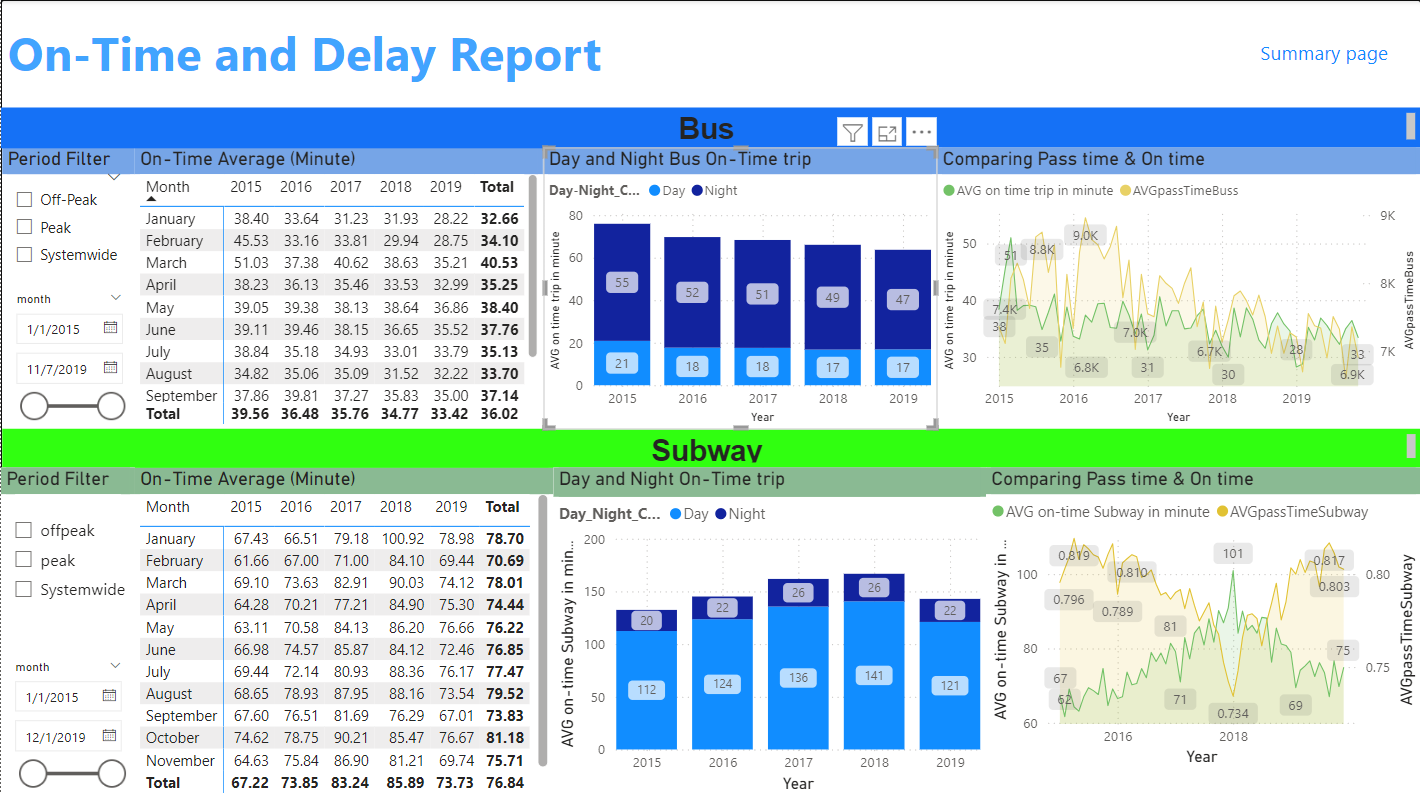

What the dashboard file says about the page in this screenshot:
{"tool":"powerbi","page":{"name":"On time & Delay","canvas":[1280,720],"ordinal":1},"visuals":[{"type":"slicer","title":"Period Filter","fields":{"Values":["MTA_Bus_Wait_Assessment__2015-2019 (2).period"]},"box":[1.2,133.3,119.8,126],"z":0},{"type":"slicer","fields":{"Values":["MTA_Bus_Wait_Assessment__2015-2019 (2).month"]},"box":[1.2,258,119.8,128.4],"z":1000},{"type":"pivotTable","title":"On-Time Average (Minute)","fields":{"Rows":["MTA_Bus_Wait_Assessment__2015-2019 (2).month.Variation.Date Hierarchy.Month"],"Columns":["MTA_Bus_Wait_Assessment__2015-2019 (2).month.Variation.Date Hierarchy.Year"],"Values":["MTA_Bus_Wait_Assessment__2015-2019 (2).AVG on time trip"]},"box":[121.1,133.3,368.1,254.3],"z":2000},{"type":"textbox","box":[0,96.6,1280.3,36.7],"z":3000},{"type":"lineChart","title":"Comparing Pass time & On time","fields":{"Y":["MTA_Bus_Wait_Assessment__2015-2019 (2).on time trip"],"Category":["MTA_Bus_Wait_Assessment__2015-2019 (2).month.Variation.Date Hierarchy.Year","MTA_Bus_Wait_Assessment__2015-2019 (2).month.Variation.Date Hierarchy.Month"],"Y2":["MTA_Bus_Wait_Assessment__2015-2019 (2).AVG pass time"]},"box":[843.8,133.3,436.6,254.3],"z":4000},{"type":"lineStackedColumnComboChart","title":"Day and Night Bus On-Time trip","fields":{"Category":["MTA_Bus_Wait_Assessment__2015-2019 (2).month.Variation.Date Hierarchy.Year"],"Y":["MTA_Bus_Wait_Assessment__2015-2019 (2).on time trip"],"Series":["MTA_Bus_Wait_Assessment__2015-2019 (2).Day-Night_"]},"box":[489.1,133.3,354.6,254.3],"z":5000},{"type":"pivotTable","title":"On-Time Average (Minute)","fields":{"Rows":["MTA_Subway_Wait_Assessment__2015-2019.month.Variation.Date Hierarchy.Month"],"Columns":["MTA_Subway_Wait_Assessment__2015-2019.month.Variation.Date Hierarchy.Year"],"Values":["MTA_Subway_Wait_Assessment__2015-2019.Average on-time Subway in minute"]},"box":[134.5,421.9,363.2,298.4],"z":6000},{"type":"textbox","box":[1.2,386.4,1279.1,35.5],"z":7000},{"type":"lineStackedColumnComboChart","title":"Day and Night On-Time trip","fields":{"Category":["MTA_Subway_Wait_Assessment__2015-2019.month.Variation.Date Hierarchy.Year"],"Y":["MTA_Subway_Wait_Assessment__2015-2019.Average on-time Subway in minute"],"Series":["MTA_Subway_Wait_Assessment__2015-2019.Day_Night_Caption"]},"box":[497.7,421.9,390.1,298.4],"z":8000},{"type":"lineChart","title":"Comparing Pass time & On time","fields":{"Category":["MTA_Subway_Wait_Assessment__2015-2019.month.Variation.Date Hierarchy.Year","MTA_Subway_Wait_Assessment__2015-2019.month.Variation.Date Hierarchy.Month"],"Y":["MTA_Subway_Wait_Assessment__2015-2019.AVG on-time Subway in minute"],"Y2":["MTA_Subway_Wait_Assessment__2015-2019.AVGpassTimeSubway"]},"box":[887.8,421.9,392.5,273.9],"z":9000},{"type":"slicer","fields":{"Values":["MTA_Subway_Wait_Assessment__2015-2019.month"]},"box":[0,589.4,132.1,130.8],"z":10000},{"type":"slicer","title":"Period Filter","fields":{"Values":["MTA_Subway_Wait_Assessment__2015-2019.period"]},"box":[0,421.9,134.5,168.8],"z":11000},{"type":"textbox","box":[1.2,12.2,560.1,68.5],"z":12000},{"type":"actionButton","box":[1120.1,26.9,145.5,40.4],"z":13000}]}

Visuals, with their boxes in screenshot pixels (x1, y1, x2, y2), scaled from the page's 1280x720 canvas onto the 1420x794 screenshot:
"Period Filter" slicer: 1:147:134:286
slicer - MTA_Bus_Wait_Assessment__2015-2019 (2).month: 1:285:134:426
"On-Time Average (Minute)" pivotTable: 134:147:543:427
textbox: 0:107:1419:147
"Comparing Pass time & On time" lineChart: 936:147:1419:427
"Day and Night Bus On-Time trip" lineStackedColumnComboChart: 543:147:936:427
"On-Time Average (Minute)" pivotTable: 149:465:552:793
textbox: 1:426:1419:465
"Day and Night On-Time trip" lineStackedColumnComboChart: 552:465:985:793
"Comparing Pass time & On time" lineChart: 985:465:1419:767
slicer - MTA_Subway_Wait_Assessment__2015-2019.month: 0:650:147:793
"Period Filter" slicer: 0:465:149:651
textbox: 1:13:623:89
actionButton: 1243:30:1404:74
